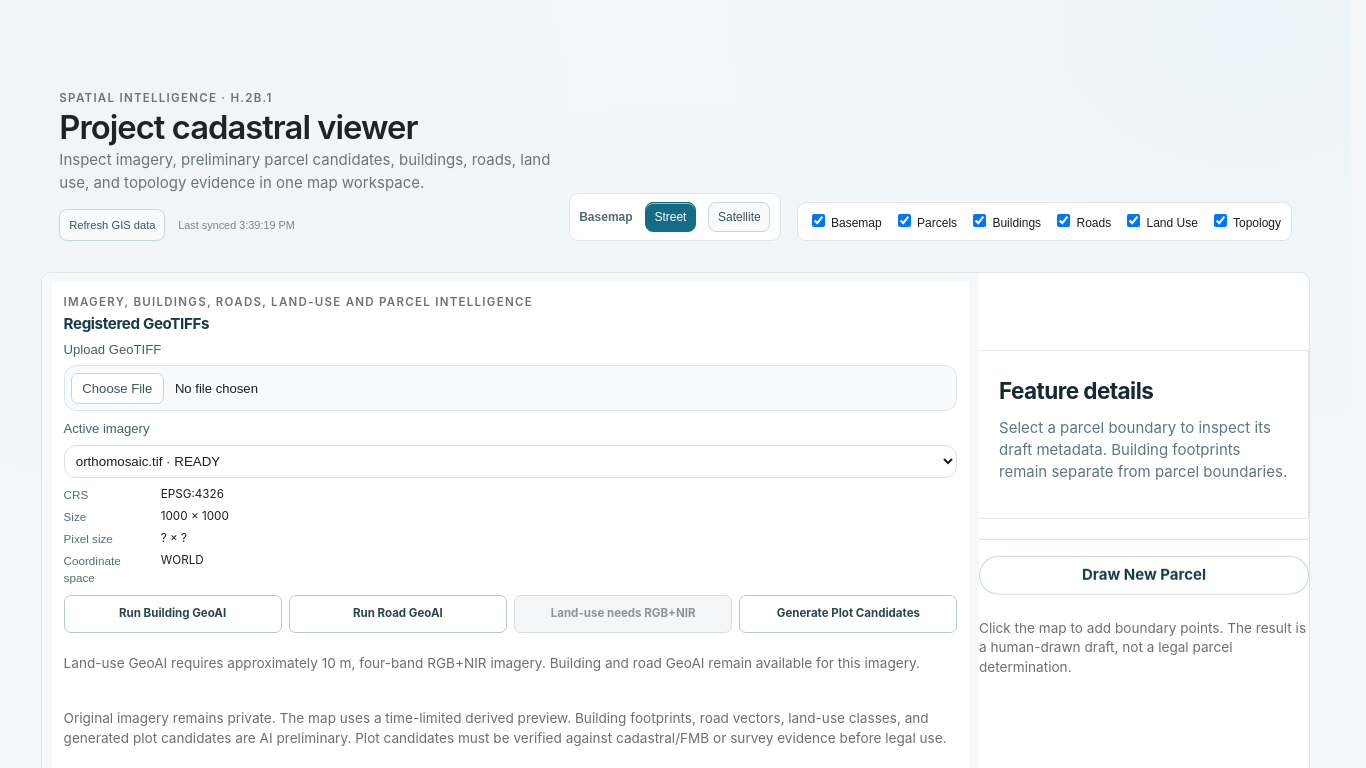
Test: GisPage › lets an authorized user queue preliminary parcel delineation
The width and height of the screenshot is (1366, 768).
Click the button "Generate Plot Candidates": (848, 614) [739,595,958,633]
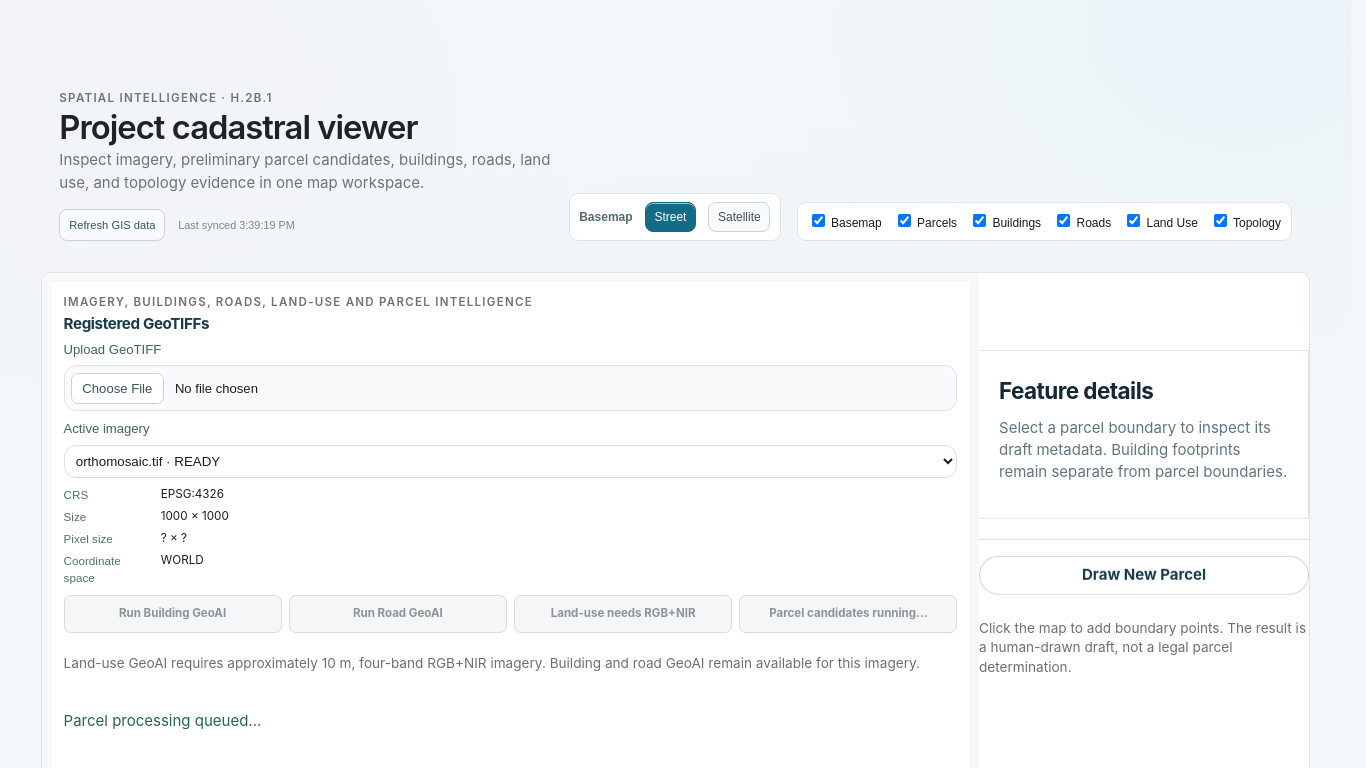
Expected: the text "Parcel processing queued..." is shown, [64,712,261,730]
